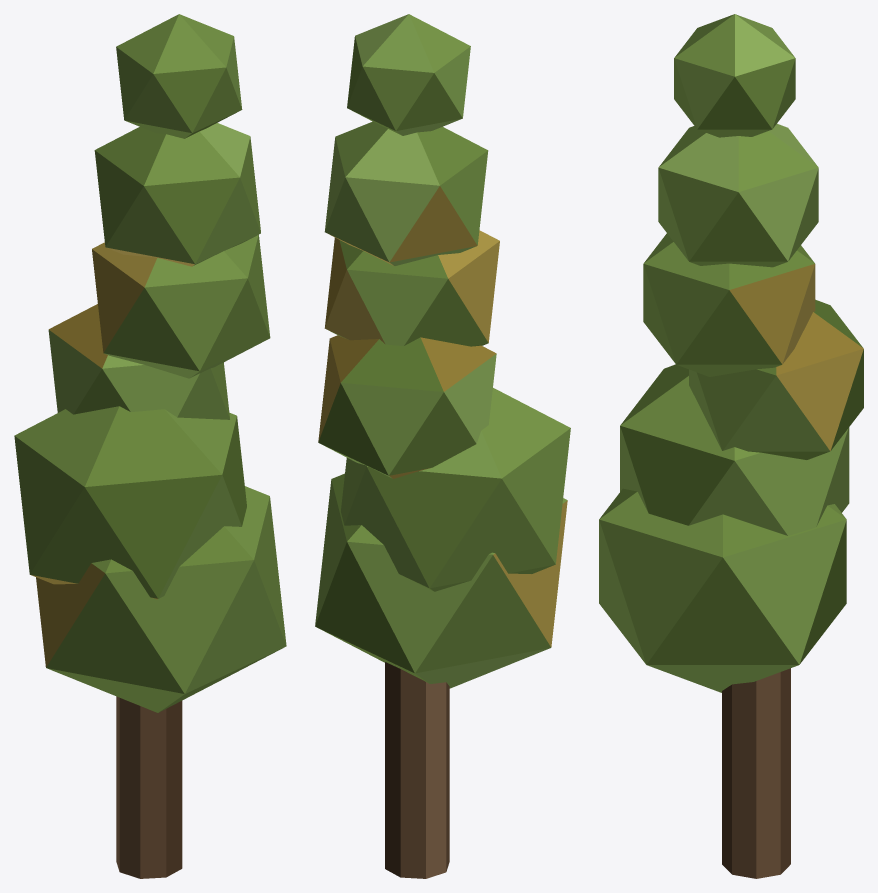
File: Plant_TreePoplar_d.fbx
3 views of the same model, side by side, from view 1: azimuth 30°, elevation 25°; view 2: azimuth 150°, elevation 25°; view 3: azimuth 270°, elevation 25° (orthographic). The views are drawn at different scales.
Visible parts, largest first — view 1: Plant_TreePoplar_d; view 2: Plant_TreePoplar_d; view 3: Plant_TreePoplar_d.
Boxes of the visible parts, <box> form: Plant_TreePoplar_d: <box>14,14,286,878</box>; Plant_TreePoplar_d: <box>315,14,570,878</box>; Plant_TreePoplar_d: <box>599,14,863,878</box>.
Size of what is drawn, in the model's own units: 0.7926 by 2.76 by 0.7703.
